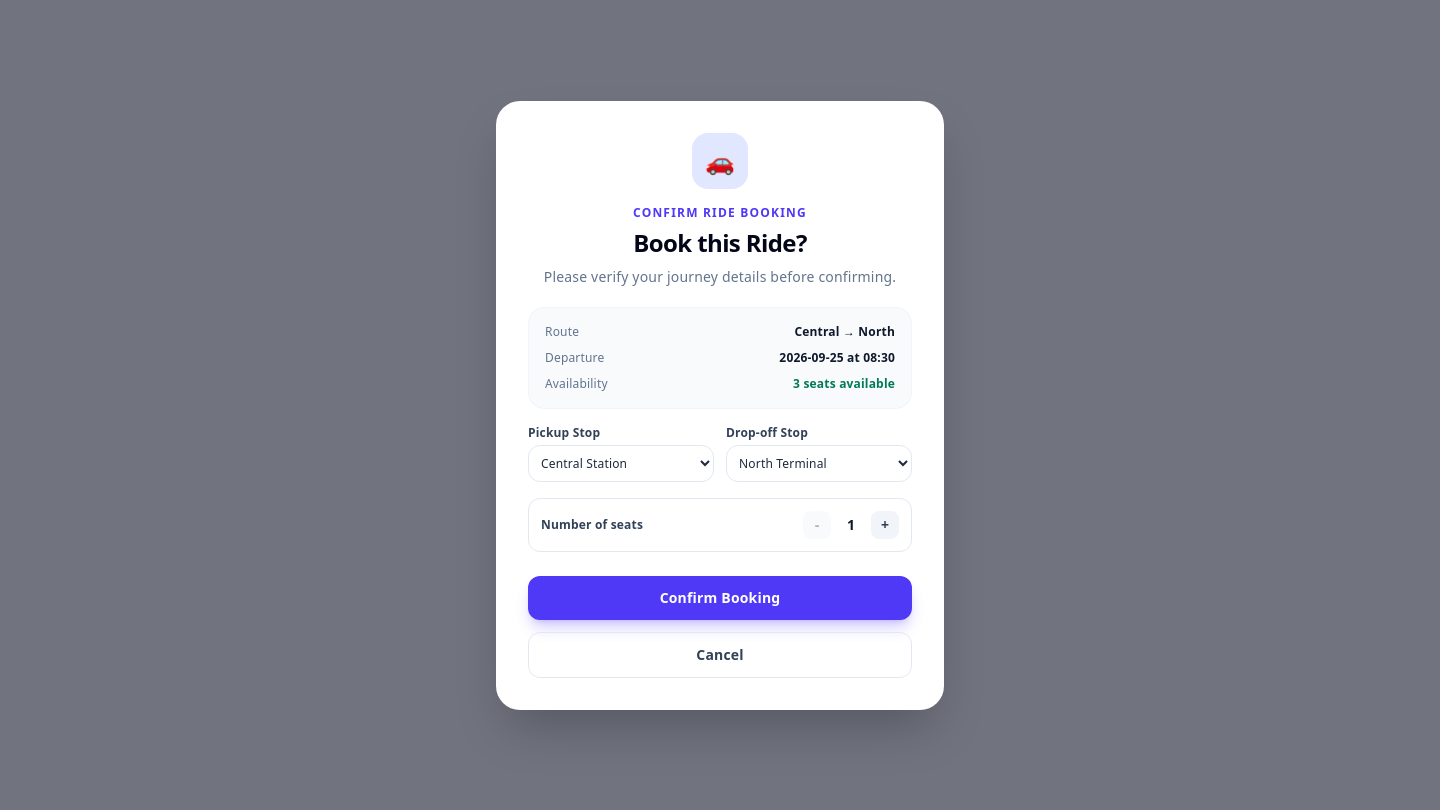
Test case: BookRideConfirmationModal › displays error message on booking failure
The image size is (1440, 810).
Step 1. Click the button "Confirm Booking" → [720, 598], box [528,576,912,620]
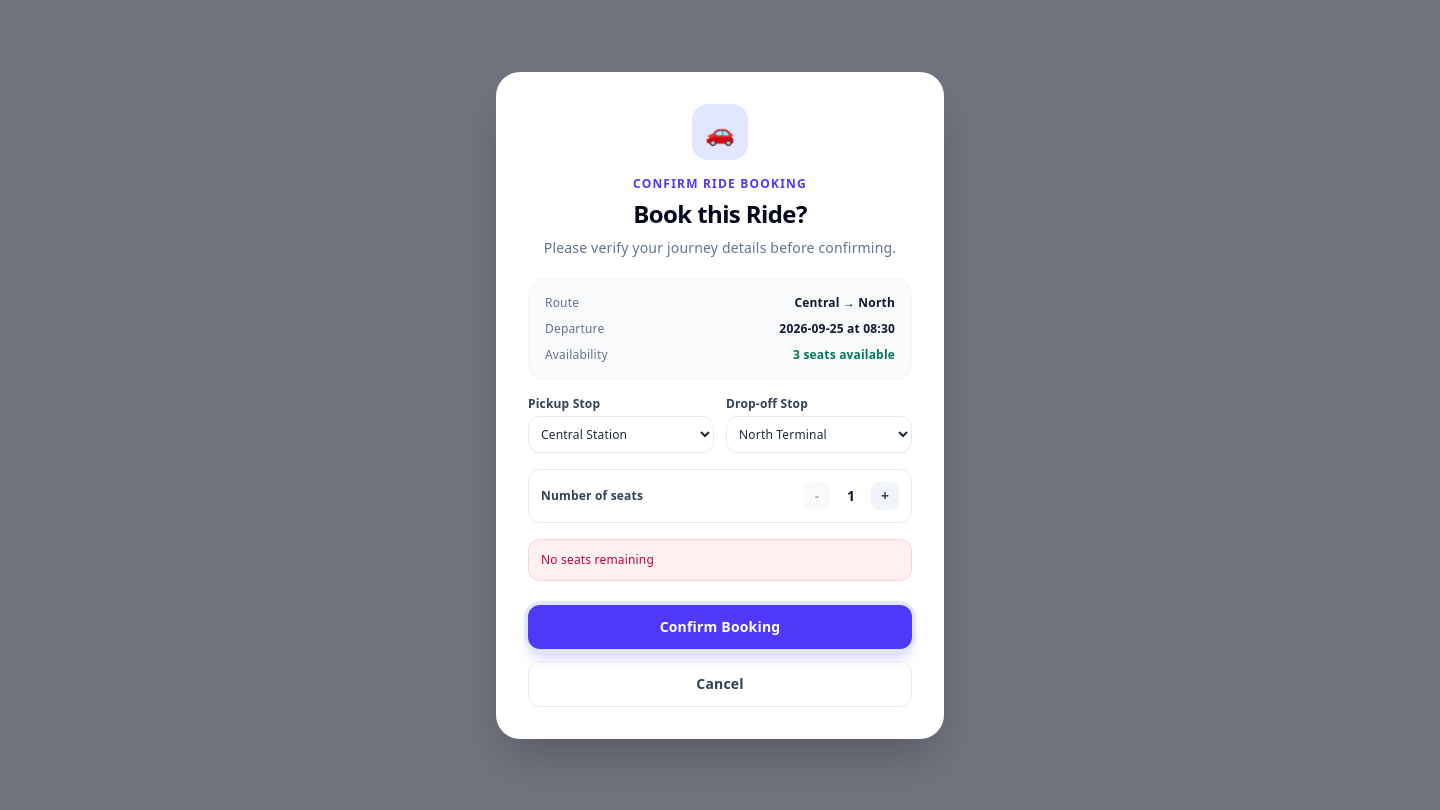
Expected: the message reads "No seats remaining", [541,550,654,568]
